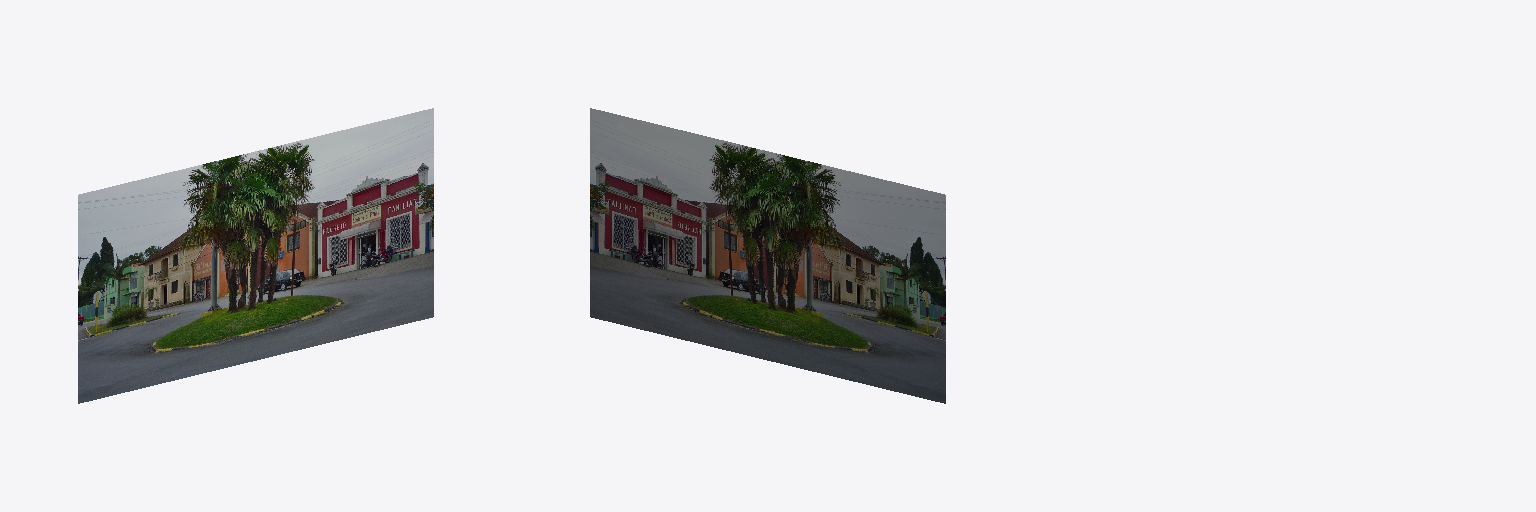
3 views of the same model, side by side, from view 1: azimuth 30°, elevation 25°; view 2: azimuth 150°, elevation 25°; view 3: azimuth 270°, elevation 25° (orthographic).
Visible parts, largest first — view 1: Rotula_02; view 2: Rotula_02; view 3: none.
Part boxes in pixels (bbox=[...]): Rotula_02: bbox=[78, 108, 433, 403]; Rotula_02: bbox=[590, 108, 945, 403].
Size of the model in its own units: 1.78 by 1 by 0.
1 materials, 1 textured.